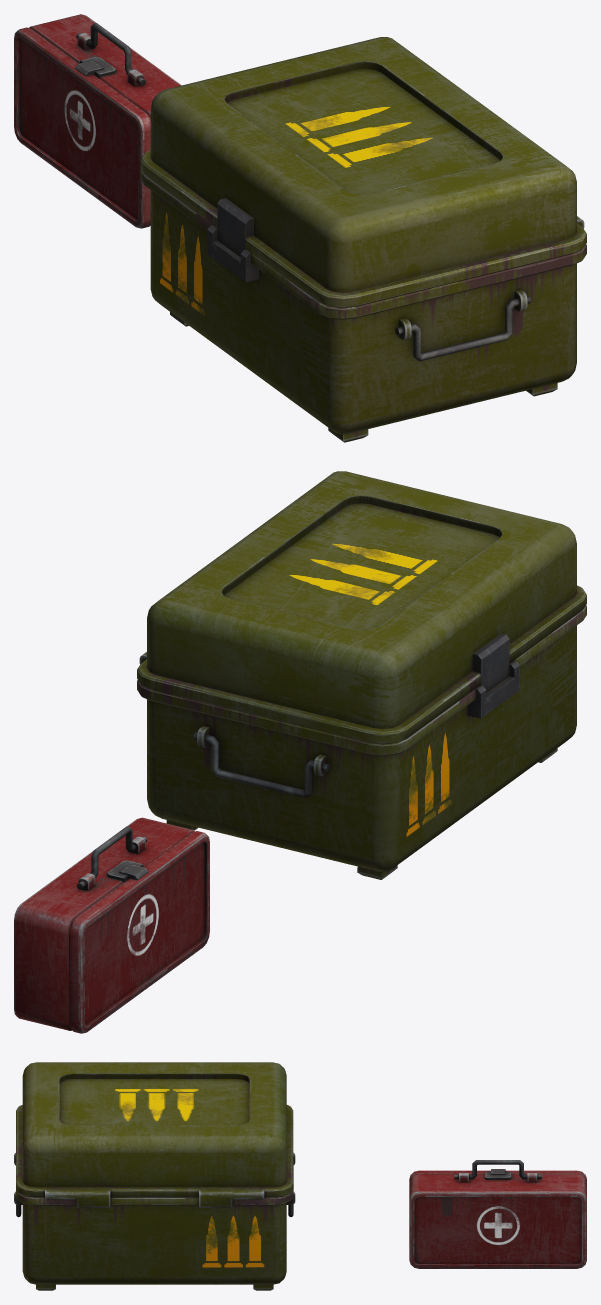
Rendered from ammo&healthbox.fbx.
3 renders of one model, top to bottom at view 1: azimuth 30°, elevation 25°; view 2: azimuth 150°, elevation 25°; view 3: azimuth 270°, elevation 25°, orthographic. The views are drawn at different scales.
Parts seen in each view (by area): view 1: ammobox, healthbox; view 2: ammobox, healthbox; view 3: ammobox, healthbox.
Part boxes in pixels (left/top/right/bottom): ammobox: left=140, top=37, right=586, bottom=442; healthbox: left=14, top=14, right=181, bottom=228; ammobox: left=137, top=471, right=586, bottom=879; healthbox: left=14, top=817, right=209, bottom=1033; ammobox: left=14, top=1062, right=295, bottom=1290; healthbox: left=409, top=1160, right=586, bottom=1268.
Bounding box in the file's own units: 70.75 × 56.58 × 184.
